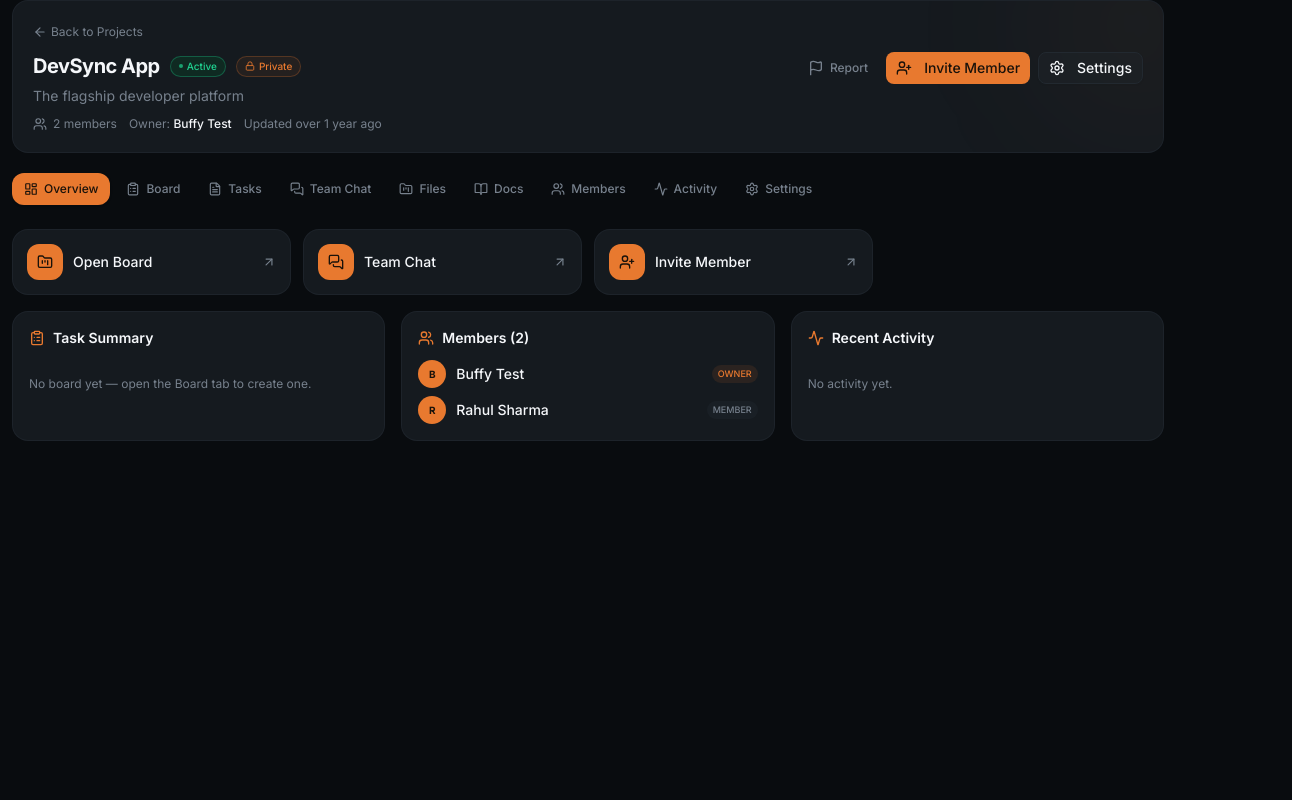
ProjectWorkspace › switches tabs without leaving the page
The width and height of the screenshot is (1292, 800).
Expected: the heading "DevSync App" is shown, x1=33 y1=52 x2=160 y2=80
Click the button "Members".
click(588, 189)  # box x1=539 y1=173 x2=638 y2=205
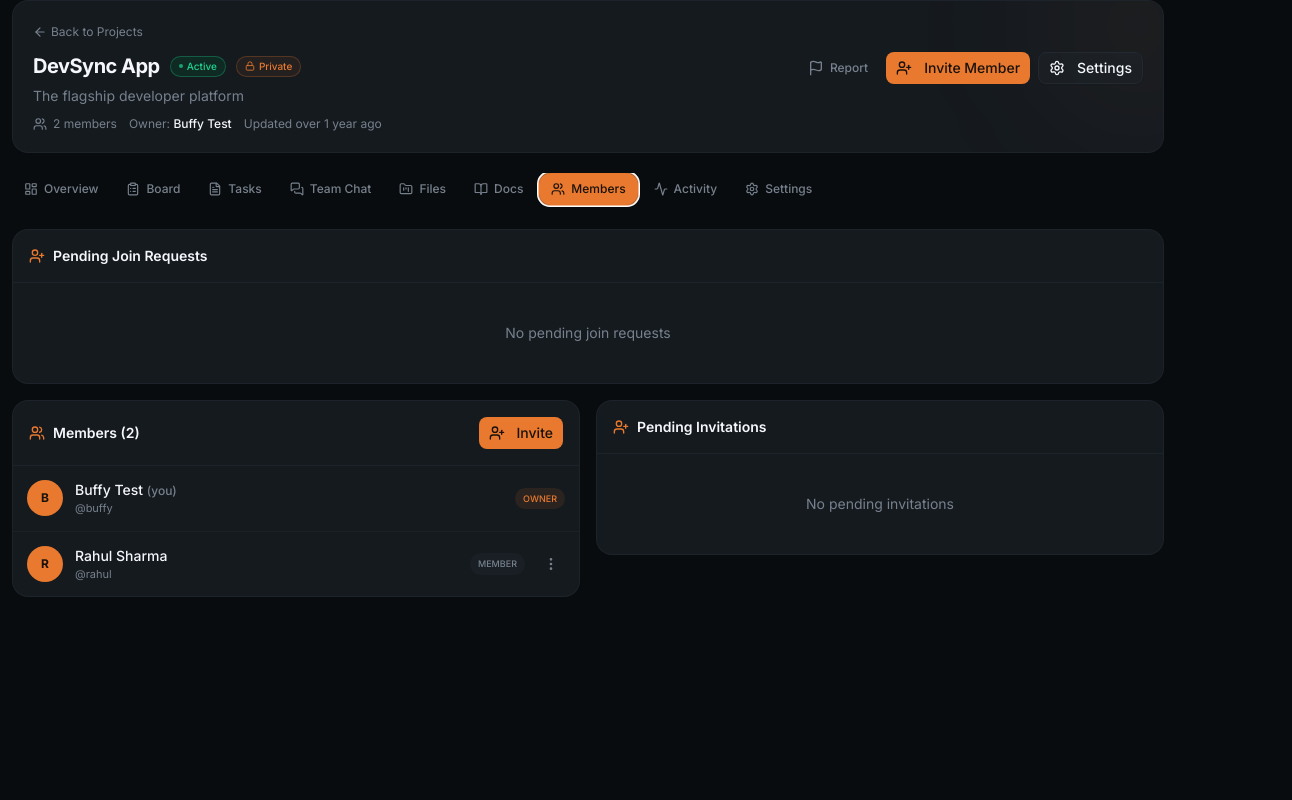
Expected: the heading "Members (2)" is shown, x1=29 y1=423 x2=140 y2=443
Expected: the text "Rahul Sharma" is shown, x1=75 y1=546 x2=168 y2=564
Click the button "Activity".
click(685, 189)  # box x1=642 y1=173 x2=729 y2=205
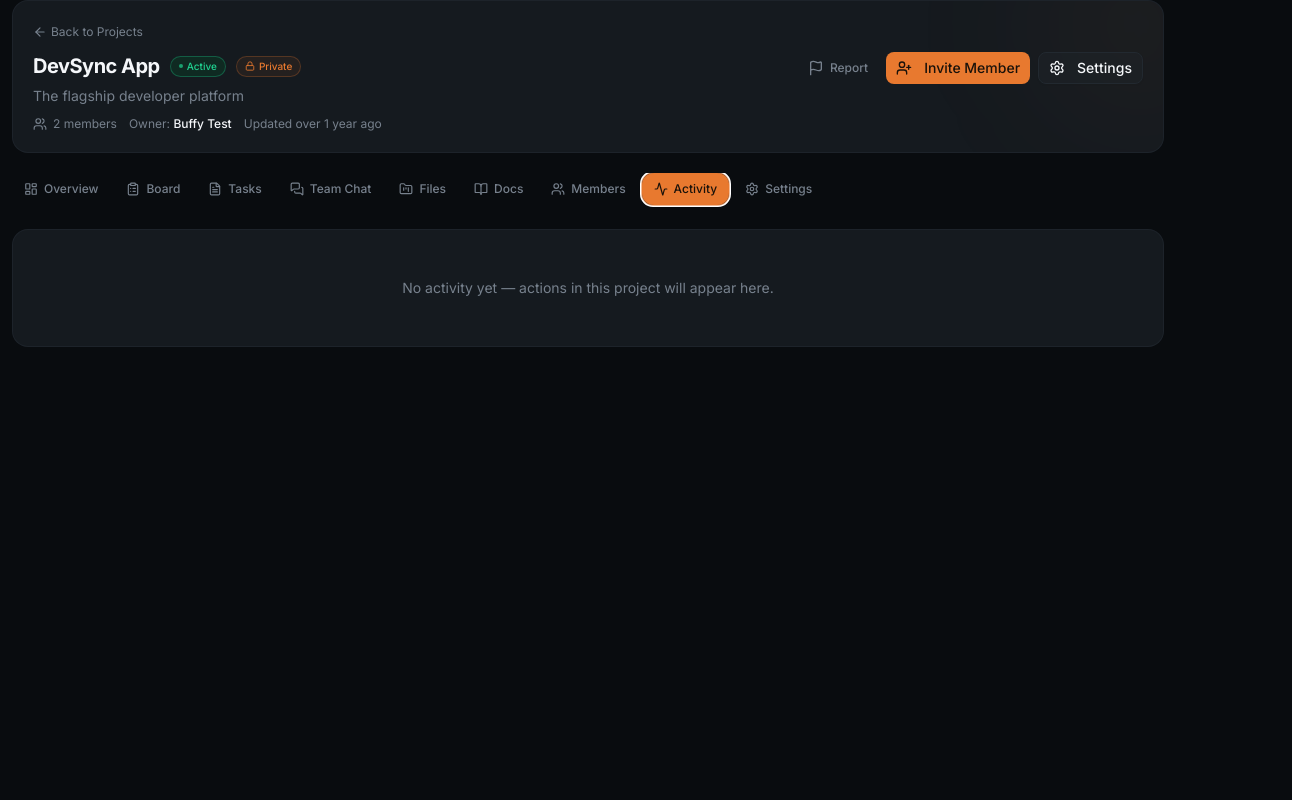
Result: the text "No activity yet — actions in this project will appear here." is shown at x1=402 y1=279 x2=774 y2=296
